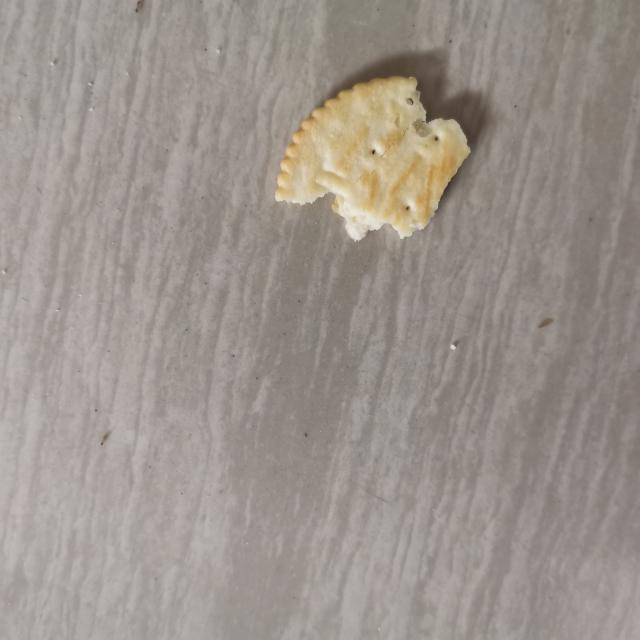Broken: (268, 75, 472, 241)
